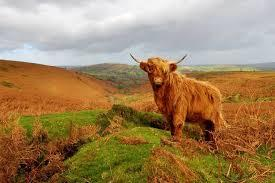cow: (129, 51, 222, 142)
